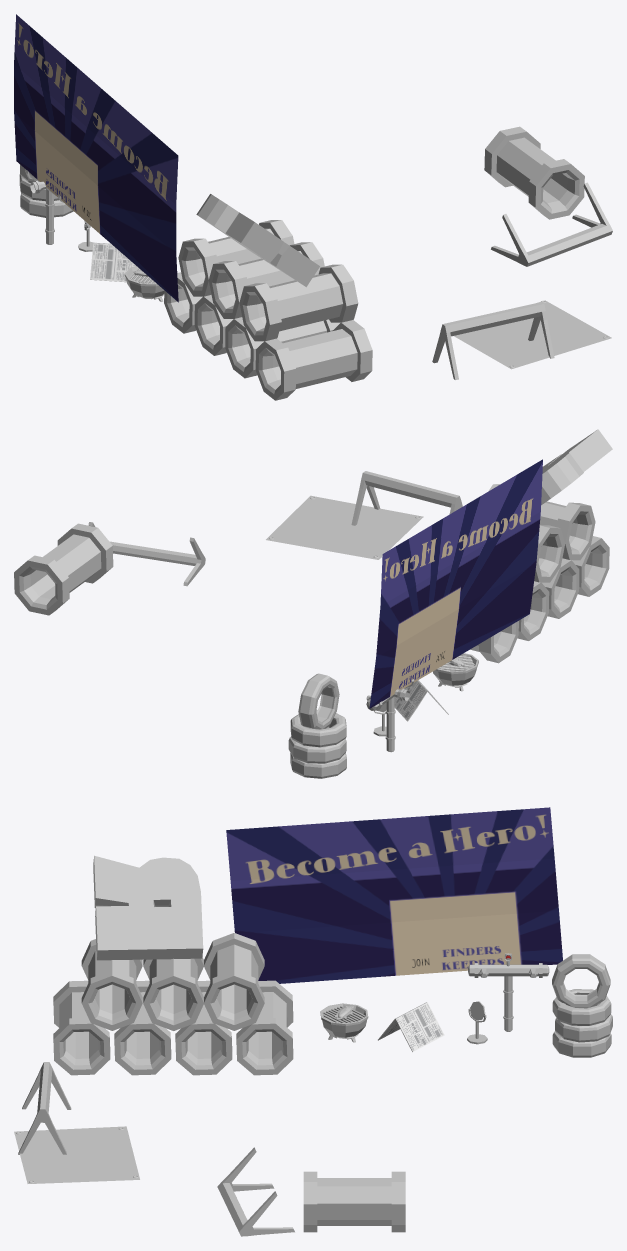
File: DBBackyardGarden.fbx
3 views of the same model, one above another, from view 1: azimuth 30°, elevation 25°; view 2: azimuth 150°, elevation 25°; view 3: azimuth 270°, elevation 25° (orthographic).
Parts seen in each view (by area): view 1: Poster.027, Pipes.077, Pipes.076, tarp.002, R, Barrier.005, Barrier.006, NewspaperTent.003, Tirestack.020, bbqbottom.003, WaterPipes.002; view 2: Poster.027, Pipes.077, tarp.002, Pipes.076, Tirestack.020, R, Barrier.005, Barrier.006, bbqbottom.003, WaterPipes.002, NewspaperTent.003; view 3: Poster.027, Pipes.077, R, tarp.002, Pipes.076, Tirestack.020, Barrier.006, Barrier.005, WaterPipes.002, NewspaperTent.003, bbqbottom.003.
Boxes of the visible parts, x1,y1,x2,y2 form: Poster.027: (14, 14, 178, 302); Pipes.077: (164, 220, 372, 400); Pipes.076: (484, 126, 584, 219); tarp.002: (454, 300, 611, 369); R: (196, 194, 319, 287); Barrier.005: (432, 302, 554, 380); Barrier.006: (491, 182, 612, 266); NewspaperTent.003: (90, 242, 135, 282); Tirestack.020: (19, 164, 73, 217); bbqbottom.003: (124, 266, 164, 301); WaterPipes.002: (25, 169, 63, 244); Poster.027: (369, 459, 542, 708); Pipes.077: (470, 484, 609, 663); tarp.002: (266, 495, 423, 559); Pipes.076: (14, 523, 113, 615); Tirestack.020: (288, 673, 346, 778); R: (541, 429, 612, 504); Barrier.005: (351, 471, 462, 525); Barrier.006: (88, 522, 205, 586); bbqbottom.003: (433, 653, 478, 691); WaterPipes.002: (366, 679, 414, 752); NewspaperTent.003: (394, 680, 448, 721); Poster.027: (226, 807, 562, 983); Pipes.077: (53, 933, 293, 1075); R: (93, 855, 203, 960); tarp.002: (14, 1126, 139, 1183); Pipes.076: (303, 1171, 405, 1232); Tirestack.020: (552, 954, 612, 1057); Barrier.006: (217, 1147, 294, 1236); Barrier.005: (18, 1062, 71, 1154); WaterPipes.002: (468, 953, 549, 1031); NewspaperTent.003: (378, 1002, 444, 1051); bbqbottom.003: (320, 1003, 368, 1042).
Bounding box in the file's own units: 2164 × 1001 × 2497.
